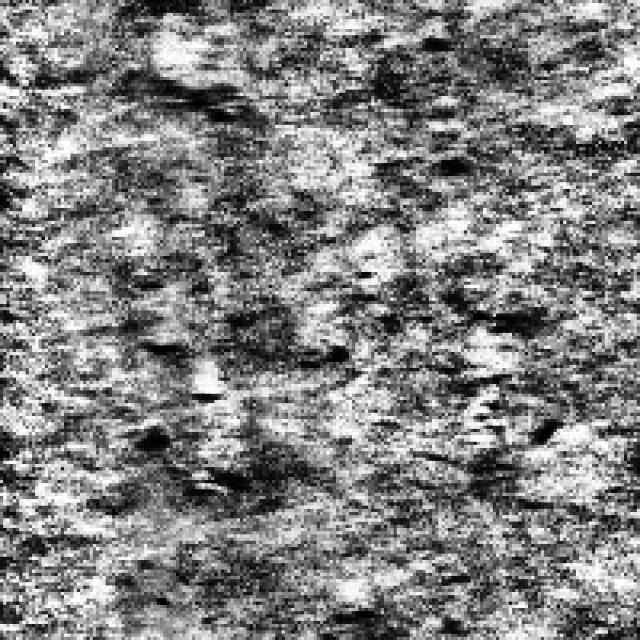Crazing: (275, 243, 538, 490), (86, 246, 256, 512), (141, 42, 269, 115)
